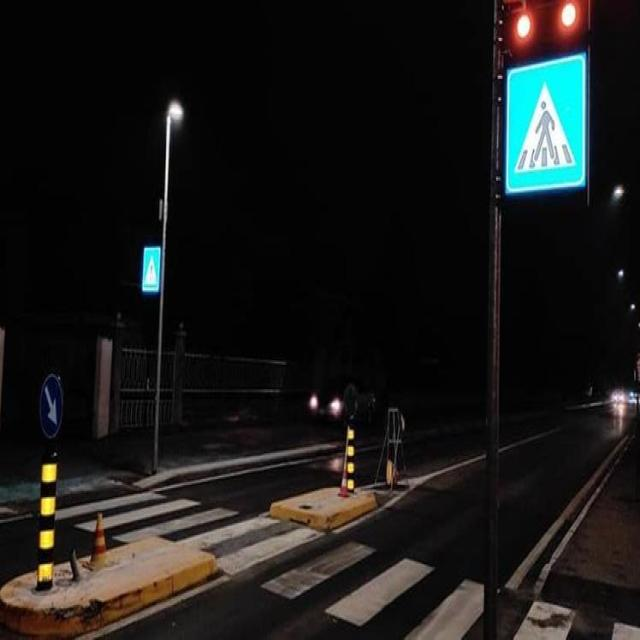Pedestrian crosswalk: (56, 496, 466, 640), (506, 50, 586, 195), (142, 246, 161, 293)
